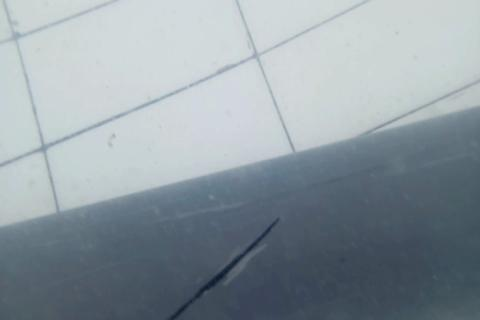keretakan: (171, 215, 281, 320)
